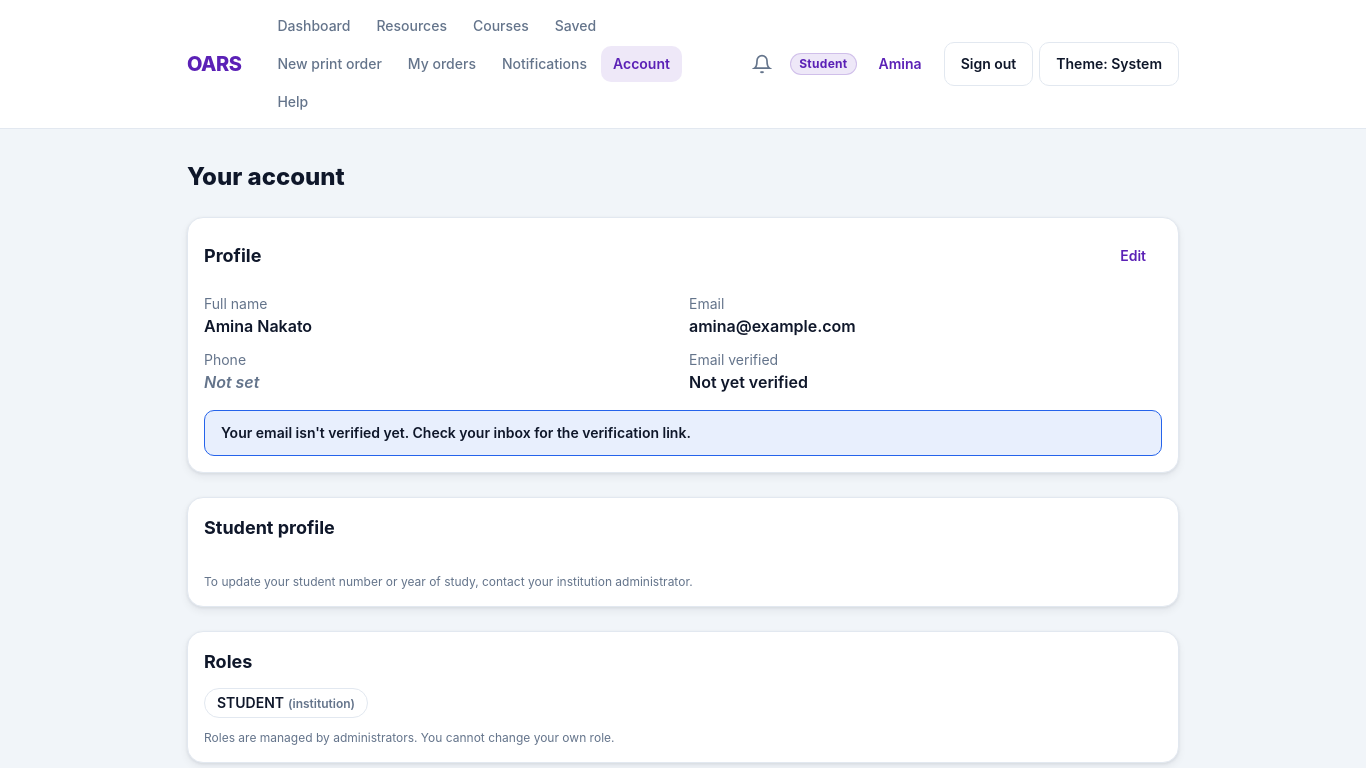
Test: AuthProvider › signs out locally even when the server cannot be reached
Expected: the heading "Your account" is shown, [187, 162, 345, 191]
Click the button "Sign out" at (988, 64), box [944, 42, 1033, 86]
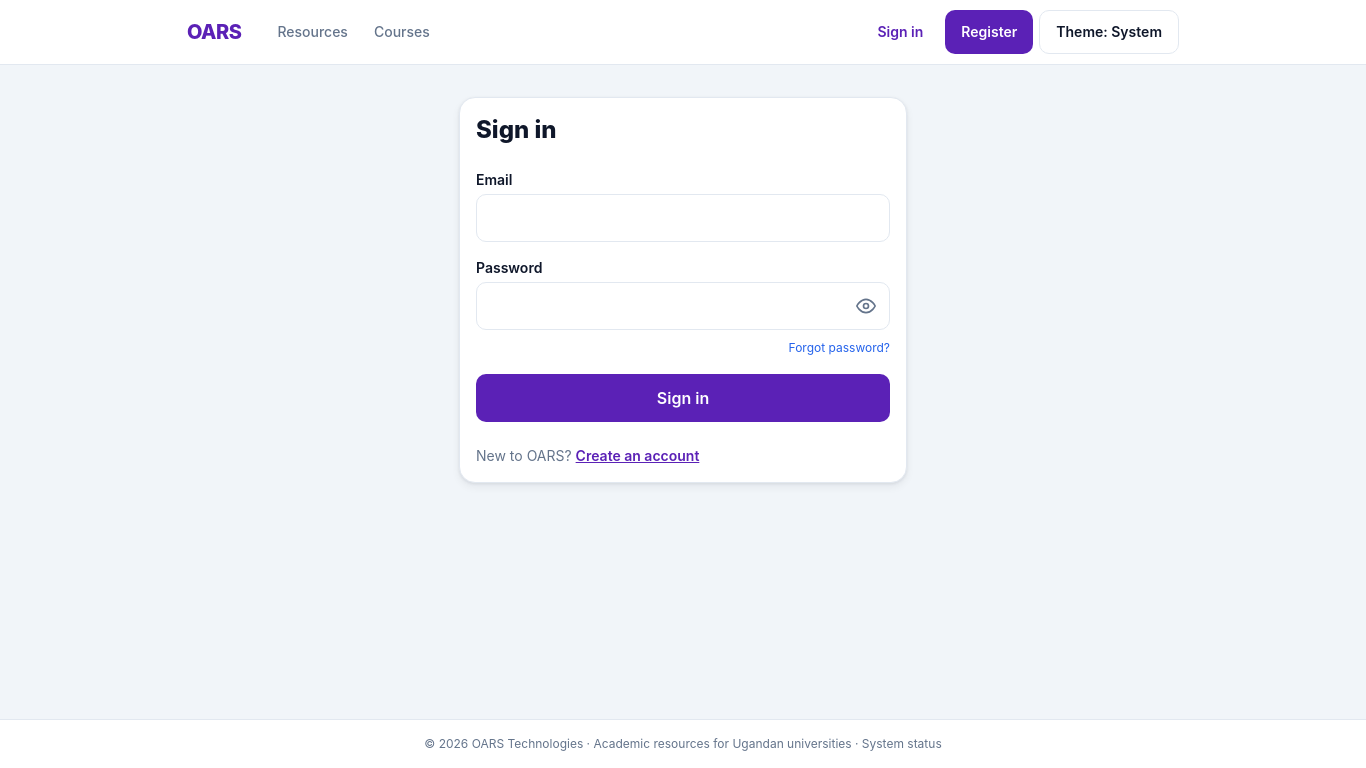
Now the heading "Sign in" is shown, box [476, 115, 556, 144]
